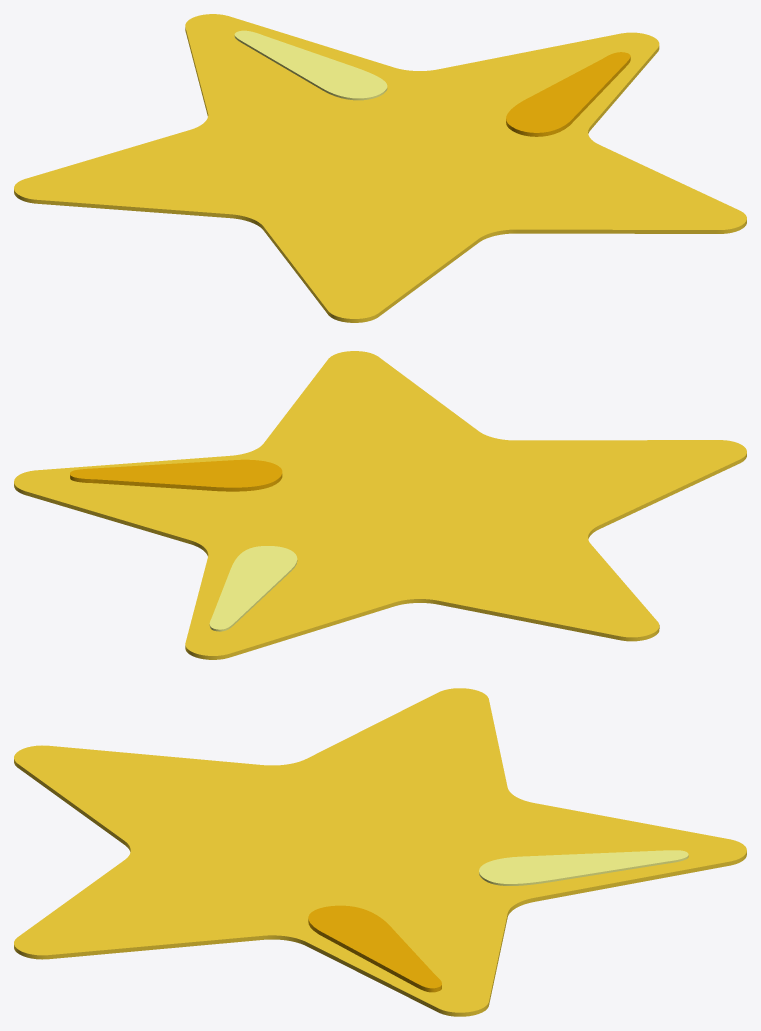
The model's file is emoji_u2b50.glb.
3 views of the same model, one above another, from view 1: azimuth 30°, elevation 25°; view 2: azimuth 150°, elevation 25°; view 3: azimuth 270°, elevation 25° (orthographic). The views are drawn at different scales.
Visible parts, largest first — view 1: emoji_u2b50; view 2: emoji_u2b50; view 3: emoji_u2b50.
Part boxes in pixels (bbox=[...]): emoji_u2b50: bbox=[14, 14, 746, 322]; emoji_u2b50: bbox=[14, 351, 746, 659]; emoji_u2b50: bbox=[14, 688, 746, 1016].
Size of the model in its own units: 0.0339 by 0.0006 by 0.0323.
